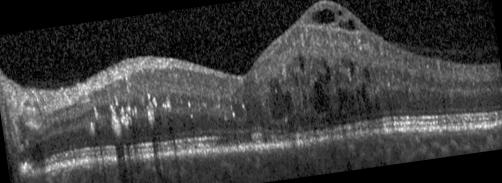intraretinal_cyst: (268, 78, 295, 120), (308, 81, 333, 113), (360, 81, 372, 113), (312, 8, 335, 23), (336, 88, 348, 111), (338, 17, 356, 29), (322, 59, 330, 83), (298, 50, 305, 71), (362, 68, 371, 82), (301, 89, 308, 107), (374, 94, 381, 110), (317, 72, 326, 84), (348, 62, 354, 77), (294, 75, 299, 86), (338, 10, 342, 15)
